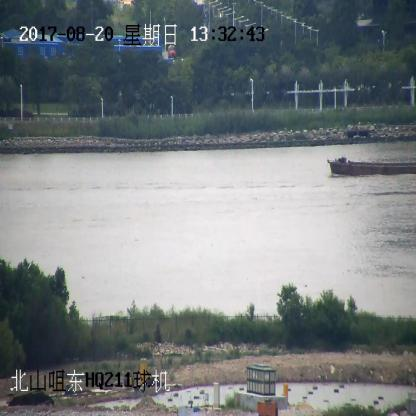Bulk Carrier: (328, 155, 416, 175)
